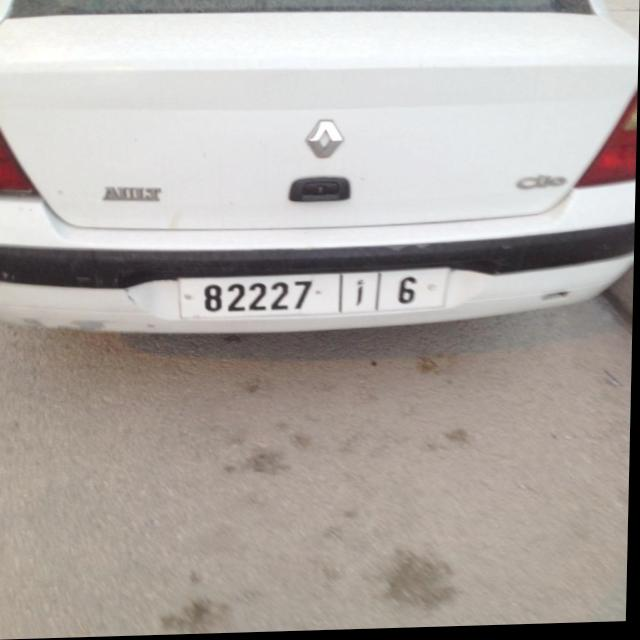License-Plate: (182, 272, 449, 320)
